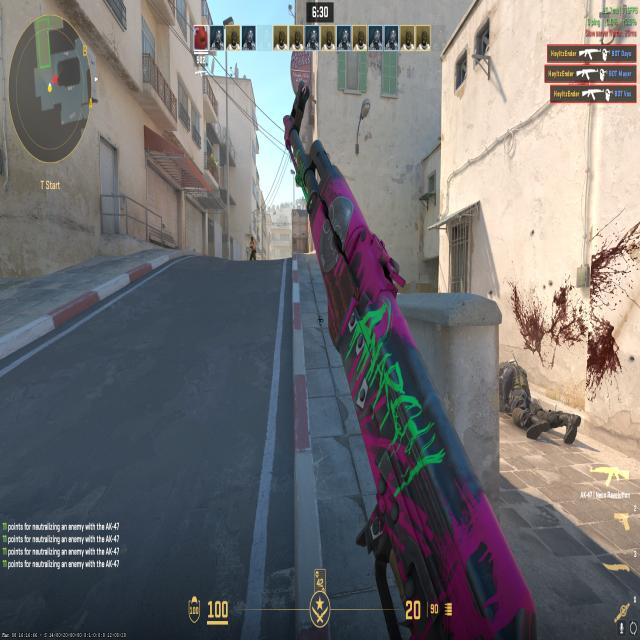t: (247, 232, 258, 261)
